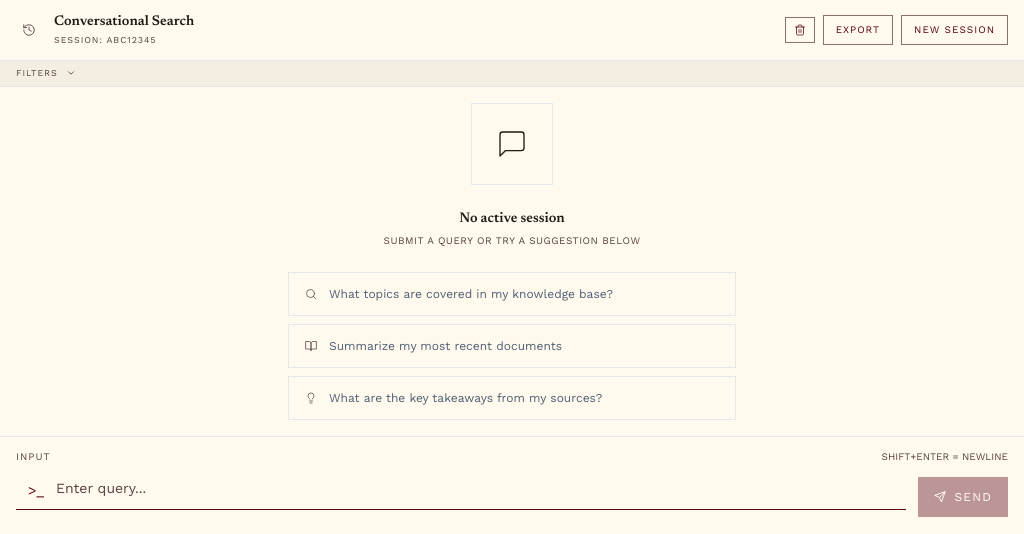
Test: ChatPanel with active conversation › cancels delete confirmation on N click
Step 1. Click the button named "Delete conversation" → {"x": 800, "y": 30}, box [785,17,815,43]
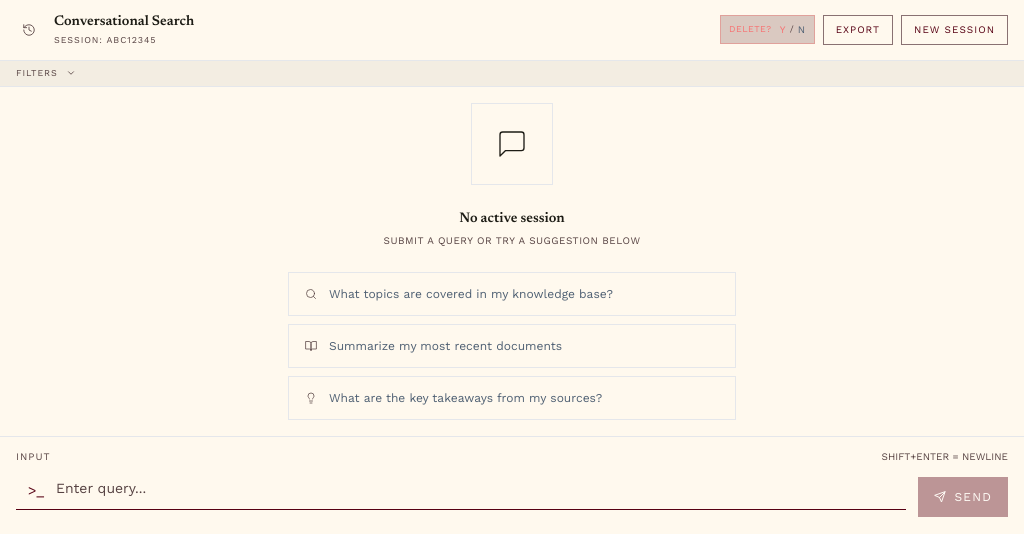
Expected: the text "DELETE?" is shown, [729,23,772,36]
// Click cancel
Step 2. Click the button named "Cancel delete" → {"x": 802, "y": 30}, box [798,22,806,37]
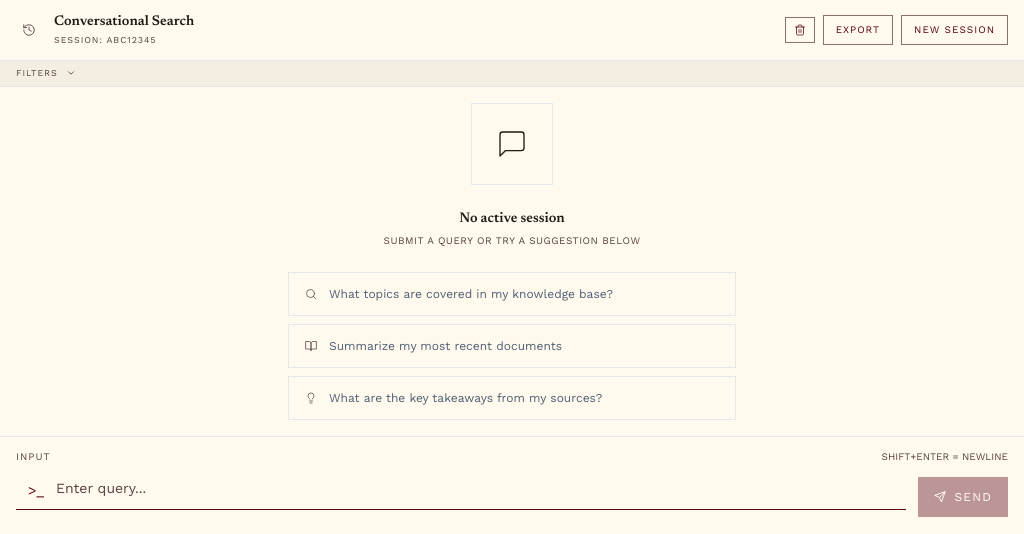
Expected: the text "DELETE?" is gone
Expected: the button named "Delete conversation" is shown, [785,17,815,43]
